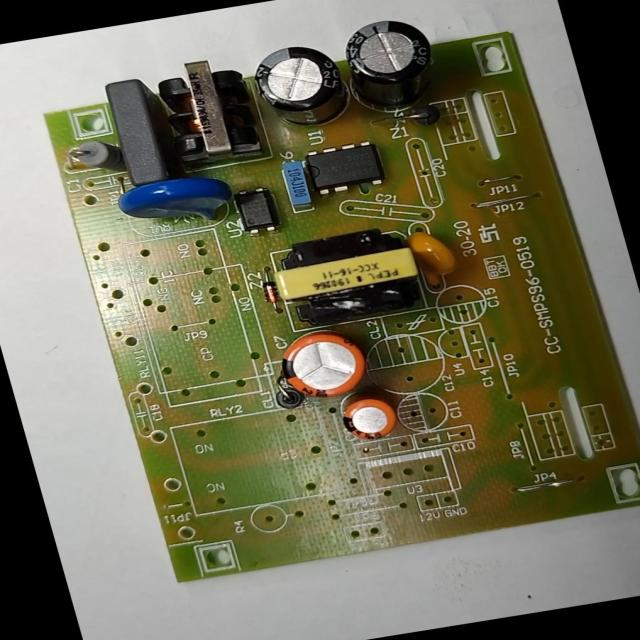Cap1: (273, 326, 375, 402)
Cap2: (336, 394, 401, 444)
Cap3: (250, 39, 354, 132)
Cap4: (333, 14, 449, 120)
MOSFET: (299, 140, 390, 199)
Mov: (112, 169, 241, 232)
Resistor: (69, 135, 127, 180)
Transformer: (267, 223, 430, 329), (148, 53, 268, 169)
